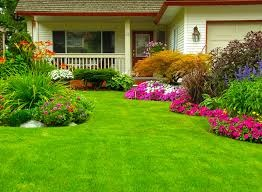grass: (1, 127, 259, 189), (80, 91, 124, 125), (126, 99, 173, 126), (174, 112, 209, 126)
